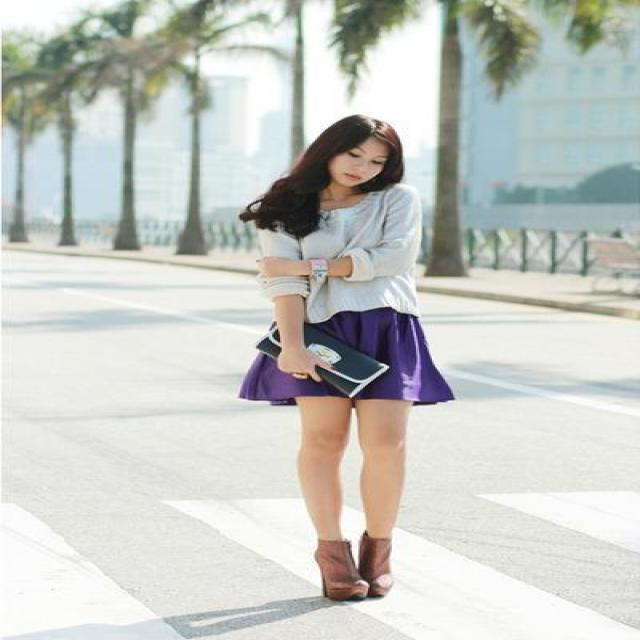bag: (257, 320, 388, 396)
shirt: (251, 192, 434, 322)
shoe: (314, 531, 388, 601)
skirt: (238, 308, 453, 407)
